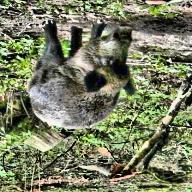boar: (28, 20, 140, 129)
